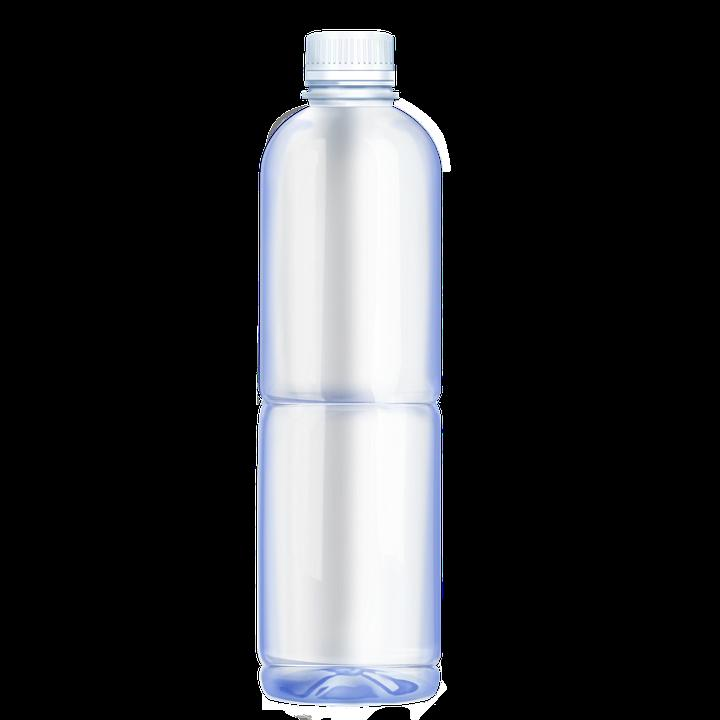bottle: (247, 25, 448, 708)
